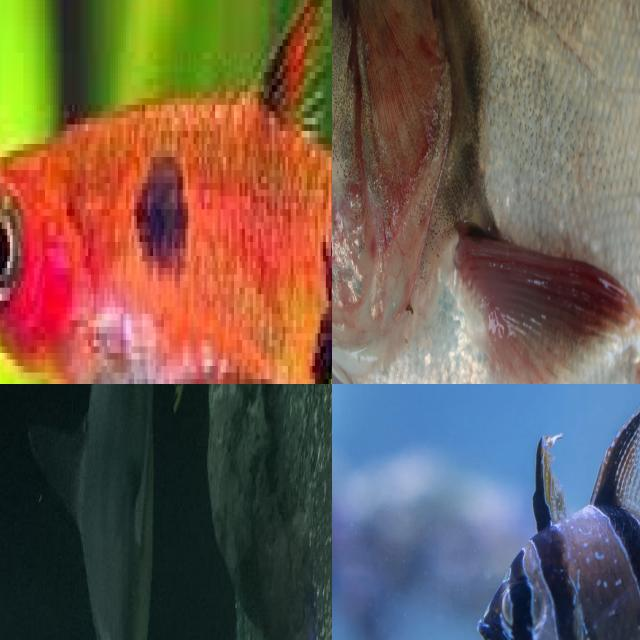fish: (0, 0, 332, 384), (332, 0, 640, 384), (332, 384, 640, 640), (22, 384, 181, 640)
